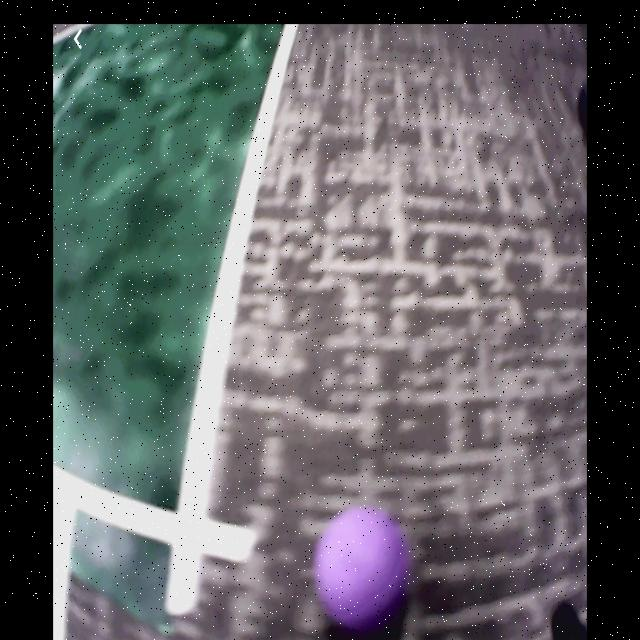ball: (320, 510, 408, 637)
